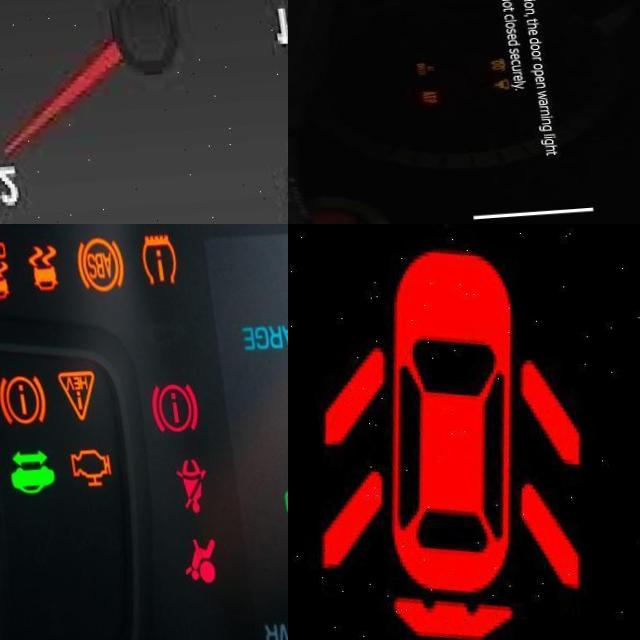Seat Belt: (161, 463, 201, 519)
